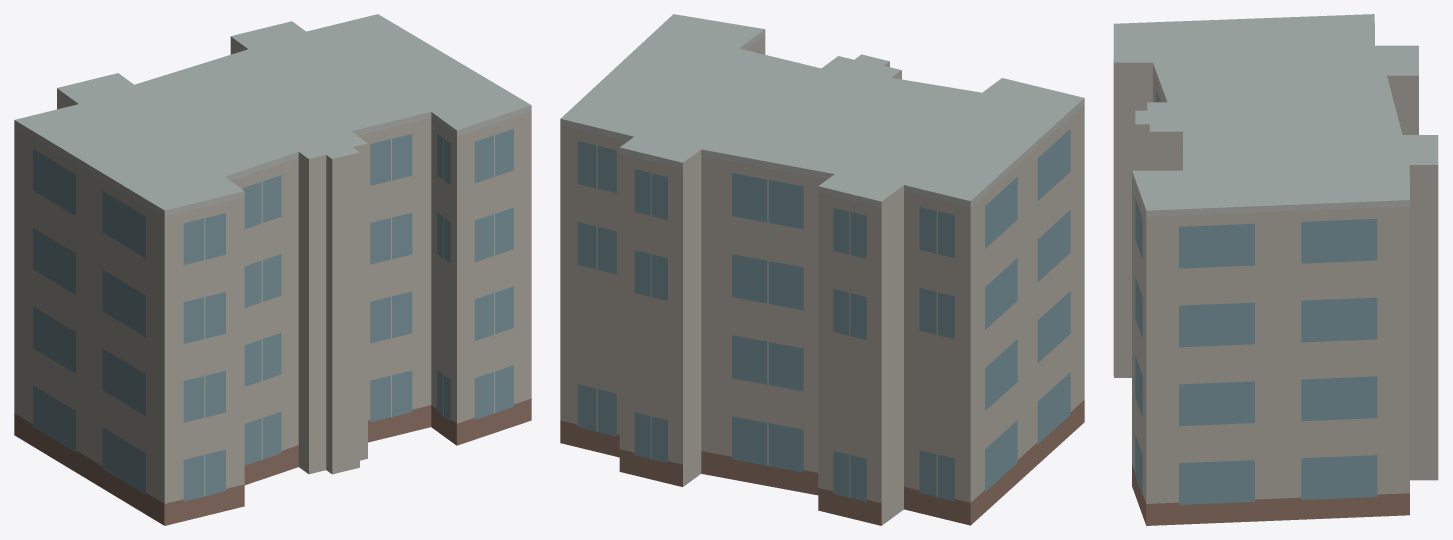
Rendered from survey-upis-32929420.glb.
The picture shows the model from 3 angles, left to right: view 1: azimuth 30°, elevation 25°; view 2: azimuth 150°, elevation 25°; view 3: azimuth 270°, elevation 25°; orthographic projection. The views are drawn at different scales.
Visible parts, largest first — view 1: survey-upis-32929420.tmp; view 2: survey-upis-32929420.tmp; view 3: survey-upis-32929420.tmp.
Part boxes in pixels (x1,y1,x2,y2): survey-upis-32929420.tmp: [14, 14, 531, 525]; survey-upis-32929420.tmp: [560, 14, 1084, 525]; survey-upis-32929420.tmp: [1113, 14, 1438, 525].
Size of the model in its own units: 17.14 by 12.8 by 11.96.
